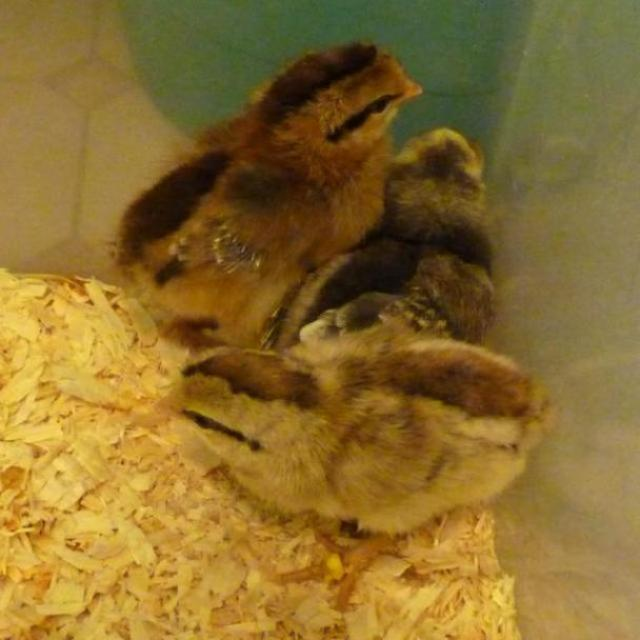Chicken: (153, 316, 559, 616), (108, 26, 416, 372)
